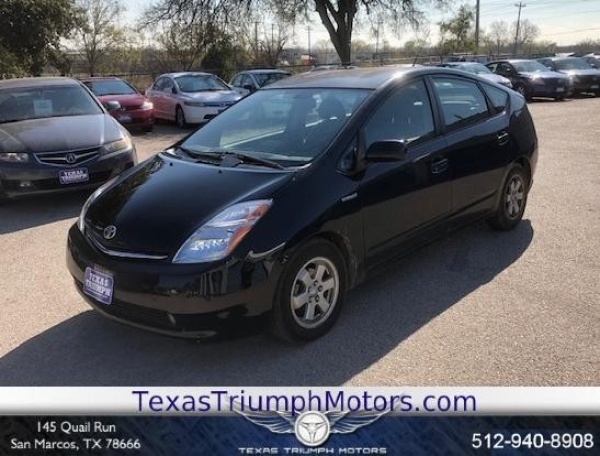Toyota Prius: (63, 64, 541, 346)
